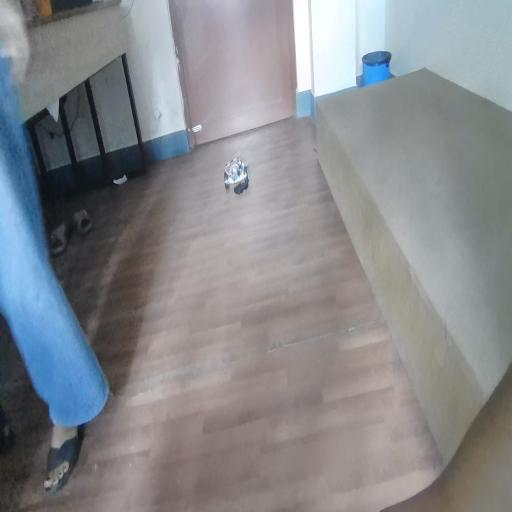car: (216, 164, 259, 197)
